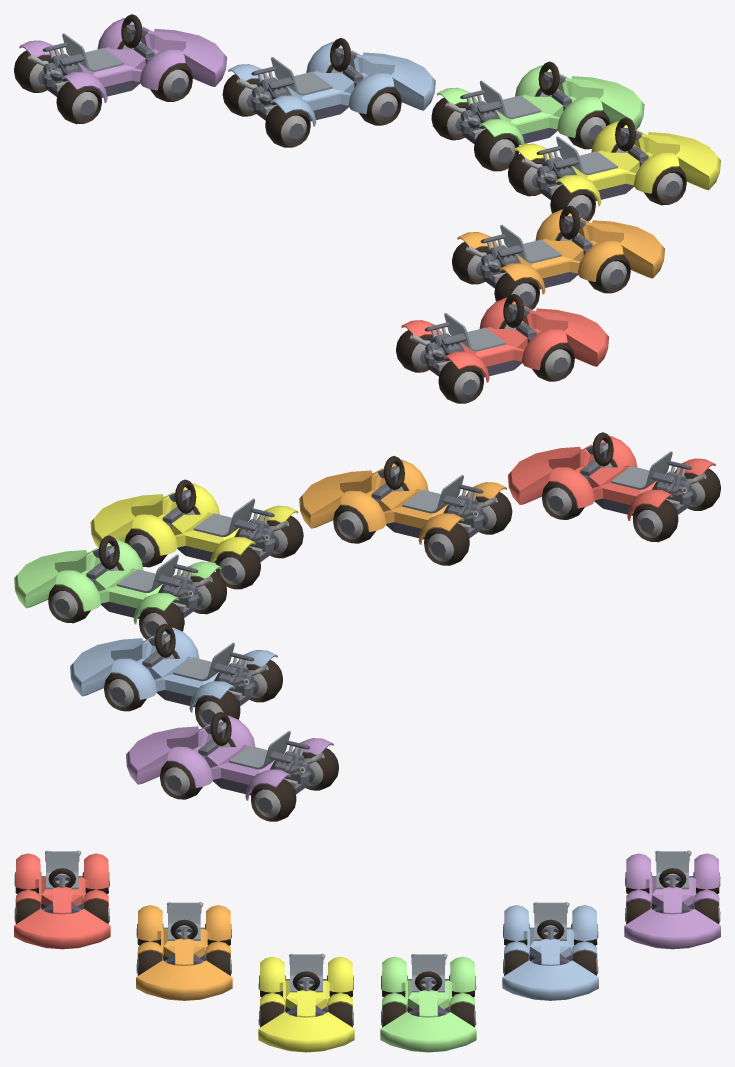
The model's file is AtomicKarts.fbx.
The picture shows the model from 3 angles, top to bottom: view 1: azimuth 30°, elevation 25°; view 2: azimuth 150°, elevation 25°; view 3: azimuth 270°, elevation 25°; orthographic projection. The views are drawn at different scales.
Visible parts, largest first — view 1: Tire25, atomic3:Tire25, atomic4:Tire25, atomic0:Tire25, atomic1:Tire25, atomic2:Tire25; view 2: atomic0:Tire25, atomic4:Tire25, Tire25, atomic3:Tire25, atomic2:Tire25, atomic1:Tire25; view 3: atomic0:Tire25, Tire25, atomic3:Tire25, atomic4:Tire25, atomic1:Tire25, atomic2:Tire25.
Boxes of the visible parts, <box> form: Tire25: <box>396,294,608,403</box>; atomic3:Tire25: <box>222,38,435,147</box>; atomic4:Tire25: <box>14,14,226,124</box>; atomic0:Tire25: <box>452,205,664,309</box>; atomic1:Tire25: <box>508,117,720,221</box>; atomic2:Tire25: <box>431,61,644,171</box>; atomic0:Tire25: <box>299,456,512,565</box>; atomic4:Tire25: <box>126,712,338,821</box>; Tire25: <box>508,432,720,542</box>; atomic3:Tire25: <box>70,623,282,727</box>; atomic2:Tire25: <box>14,535,226,639</box>; atomic1:Tire25: <box>90,479,303,589</box>; atomic0:Tire25: <box>136,902,232,1000</box>; Tire25: <box>14,850,110,949</box>; atomic3:Tire25: <box>502,902,598,1000</box>; atomic4:Tire25: <box>624,850,720,949</box>; atomic1:Tire25: <box>258,953,354,1052</box>; atomic2:Tire25: <box>380,953,476,1052</box>.
Bounding box in the file's own units: 3.36 × 0.5228 × 5.79.
